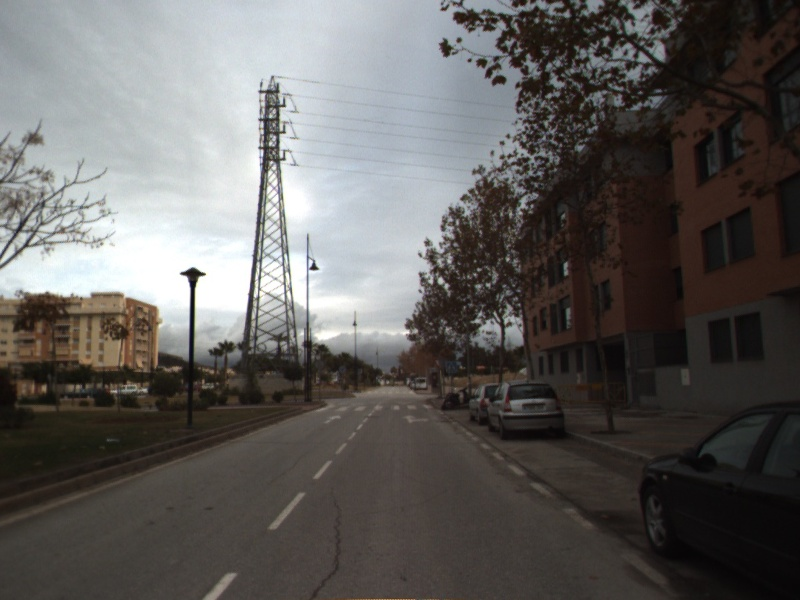STRAIGHT: (322, 413, 343, 425)
STRAIGHT_RIGHT: (400, 413, 431, 425)
